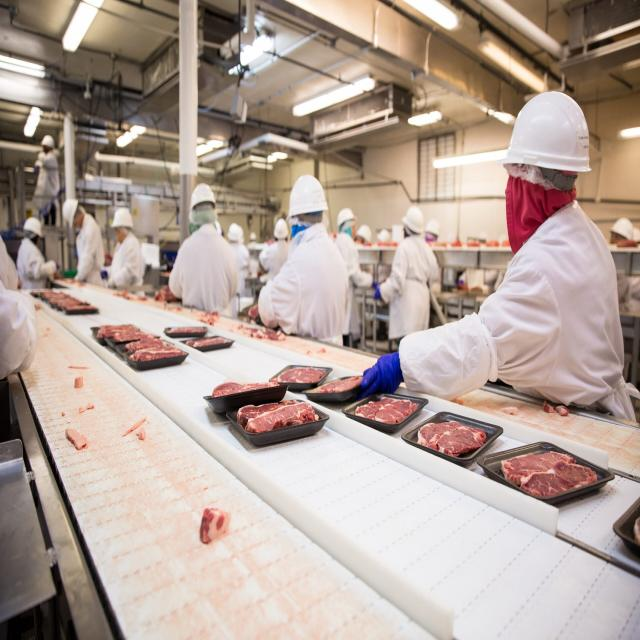Safety-Helmet: (496, 86, 596, 178), (285, 170, 329, 217), (190, 180, 218, 208), (402, 202, 424, 232), (110, 204, 135, 228)
